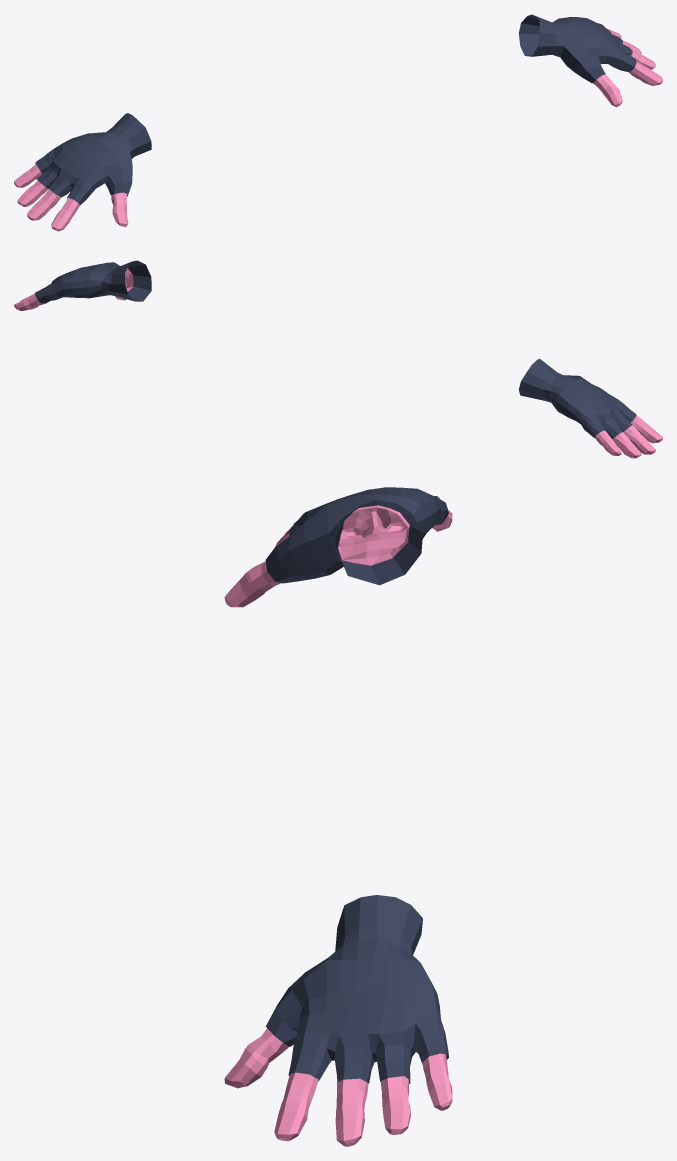
Rendered from Dabria_Hands.fbx.
The picture shows the model from 3 angles, top to bottom: view 1: azimuth 30°, elevation 25°; view 2: azimuth 150°, elevation 25°; view 3: azimuth 270°, elevation 25°; orthographic projection. The views are drawn at different scales.
Visible parts, largest first — view 1: Hand_R, Hand_L; view 2: Hand_R, Hand_L; view 3: Hand_L, Hand_R.
Boxes of the visible parts, x1,y1,x2,y2 form: Hand_R: (14,113,151,231); Hand_L: (518,14,662,107); Hand_R: (519,358,662,458); Hand_L: (14,260,151,310); Hand_L: (224,895,452,1146); Hand_R: (224,487,452,607).
Size of the model in its own units: 6.57 by 0.7531 by 1.03.
